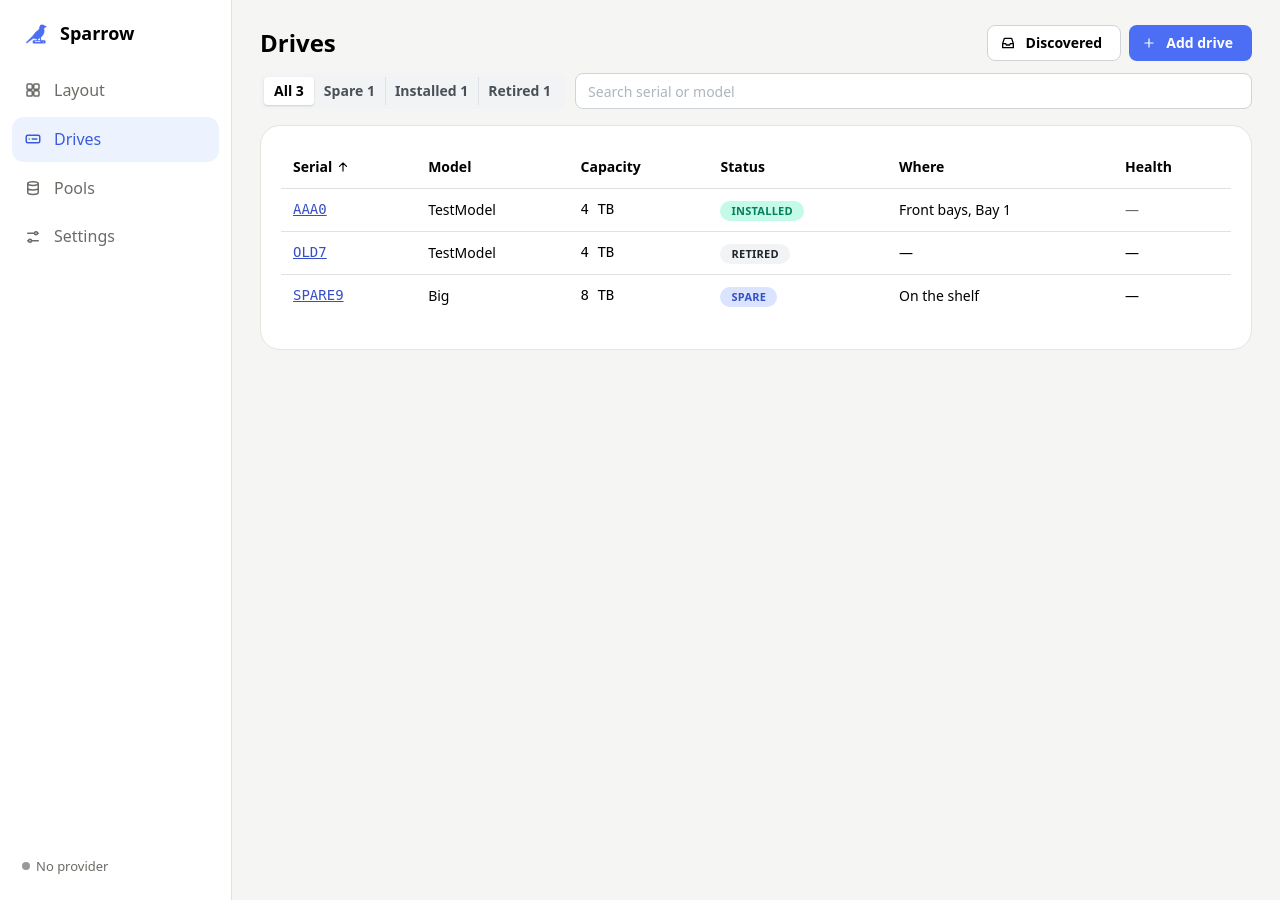
it: Drives page (R11, R13) › lists drives, filters by status and searches by serial or model
Expected: the button "SPARE9" is shown, 293,285 -> 344,307
Expected: the button "AAA0" is shown, 293,199 -> 327,221
Click the text "Retired 1". click: coordinates (520, 91)
box: 488,81 -> 551,100
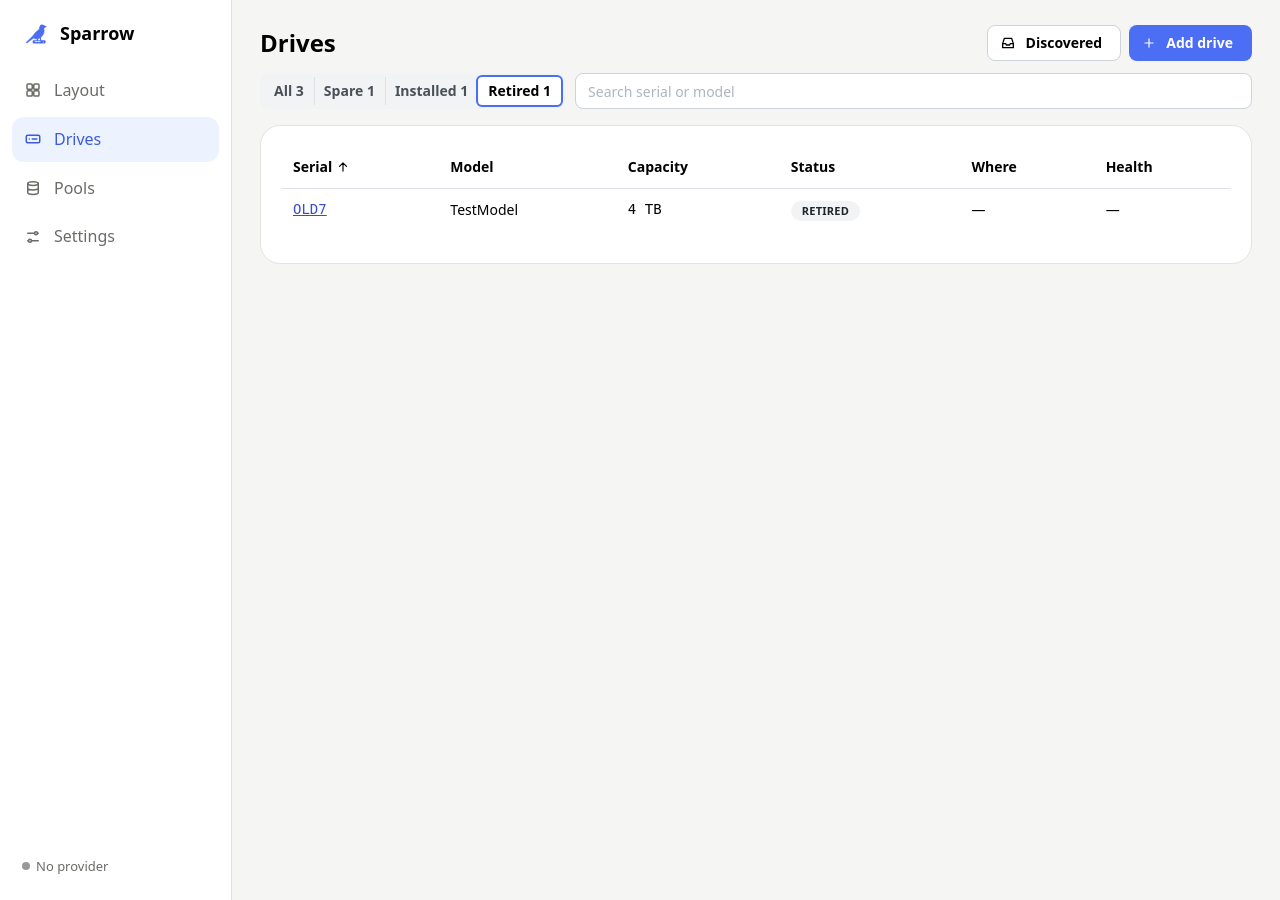
Expected: the button "OLD7" is shown, 293,199 -> 327,221
Result: the button "SPARE9" is gone
Click the text "All 3". click: coordinates (289, 91)
box: 274,81 -> 304,100
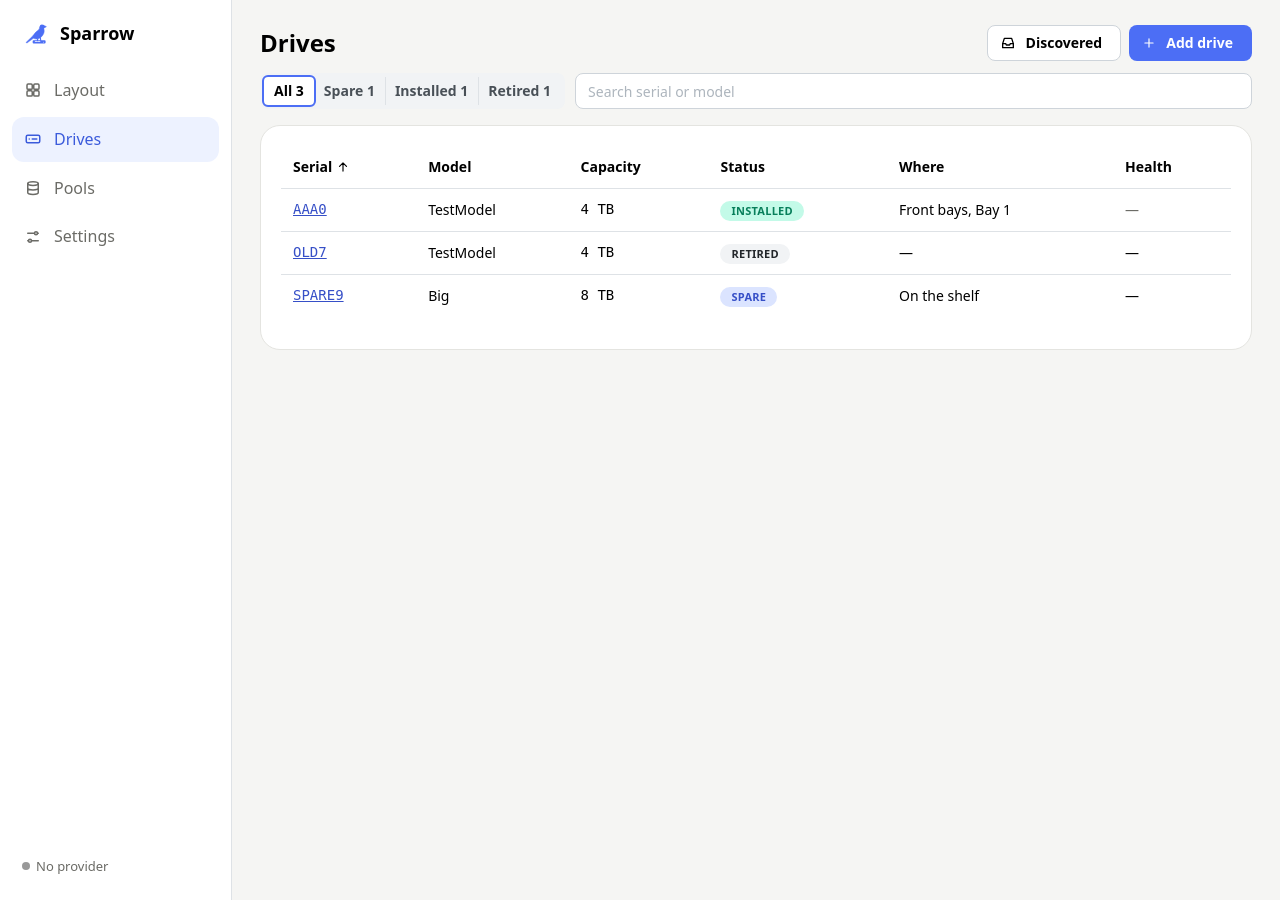
Type "big" into the field named "Search drives". click: coordinates (914, 91)
box: 575,73 -> 1252,109
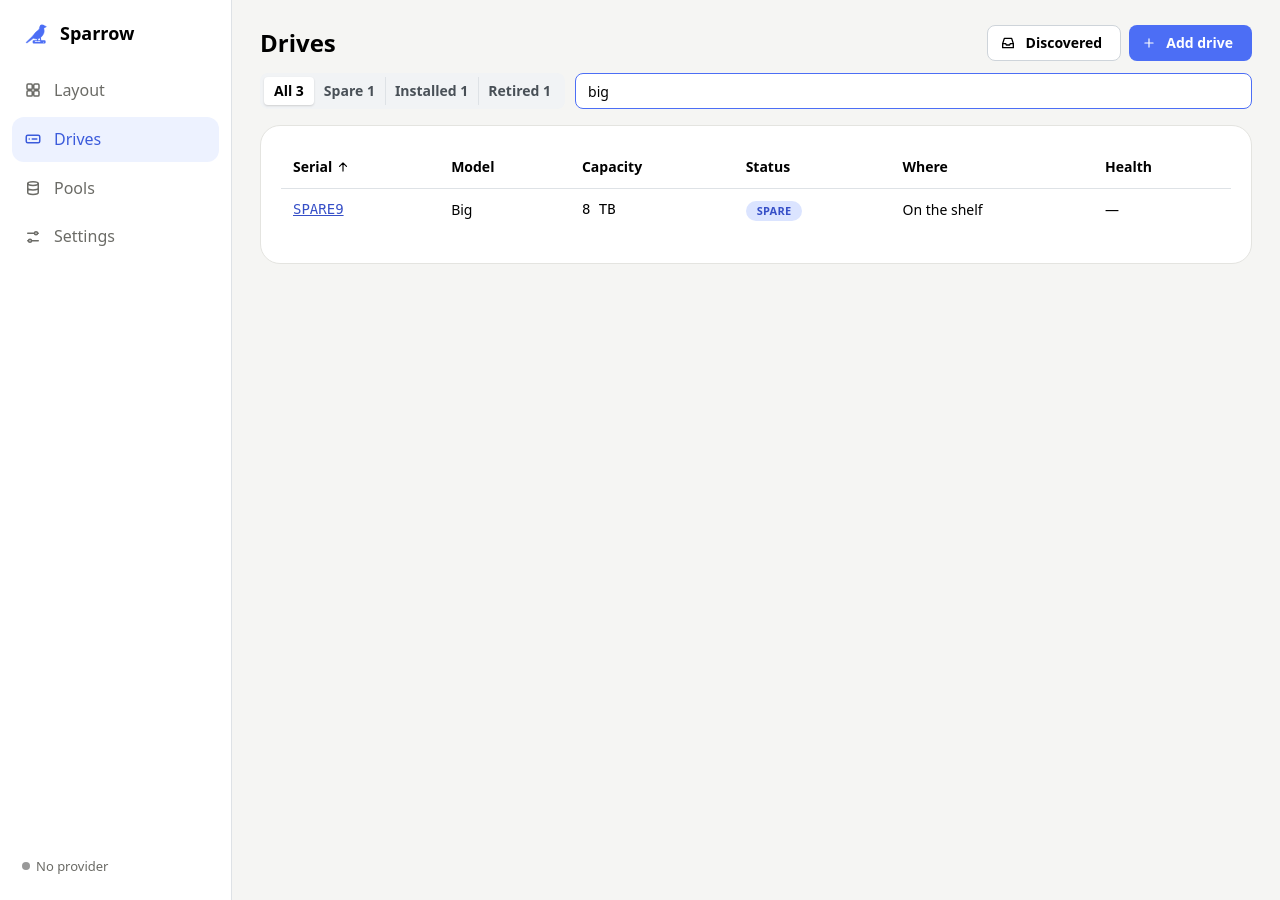
Result: the button "SPARE9" is shown at 293,199 -> 344,221
Result: the button "AAA0" is gone
